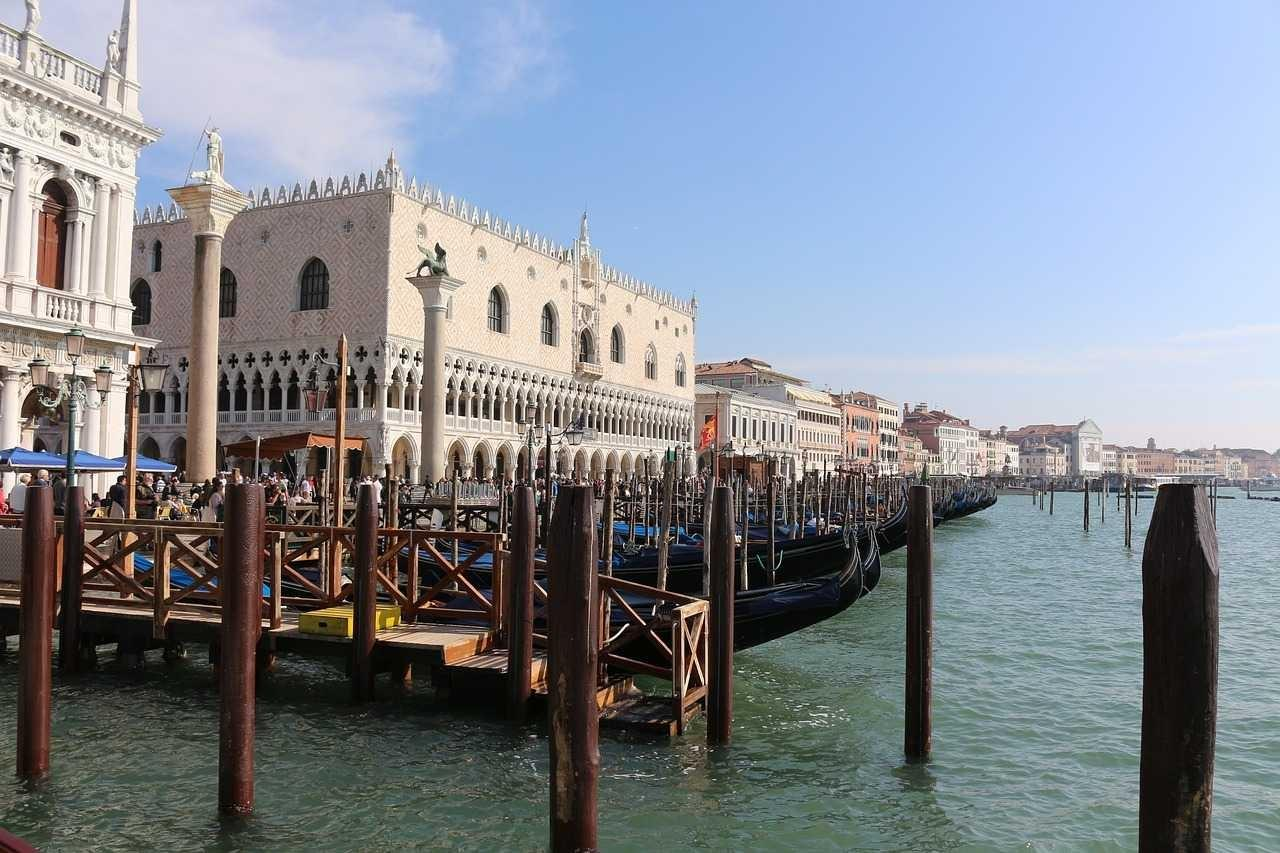kayak: (598, 523, 883, 653), (612, 522, 703, 569), (862, 496, 911, 550), (938, 488, 998, 519), (1245, 486, 1280, 500)
